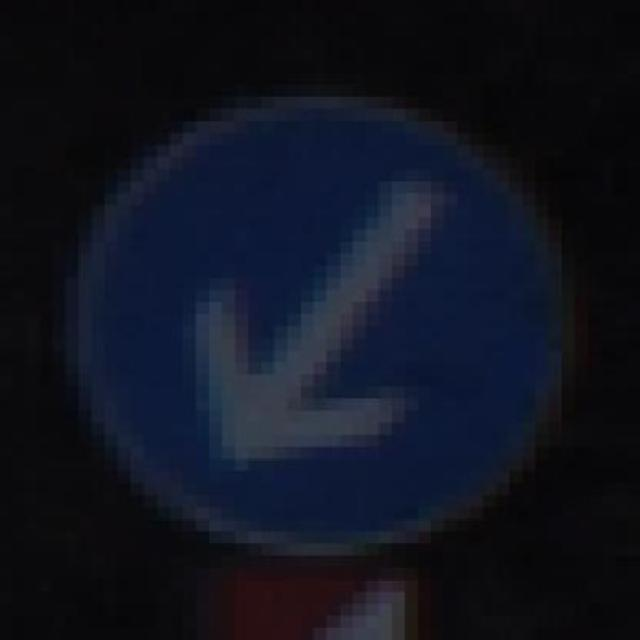Keep-Left: (52, 85, 600, 568)
